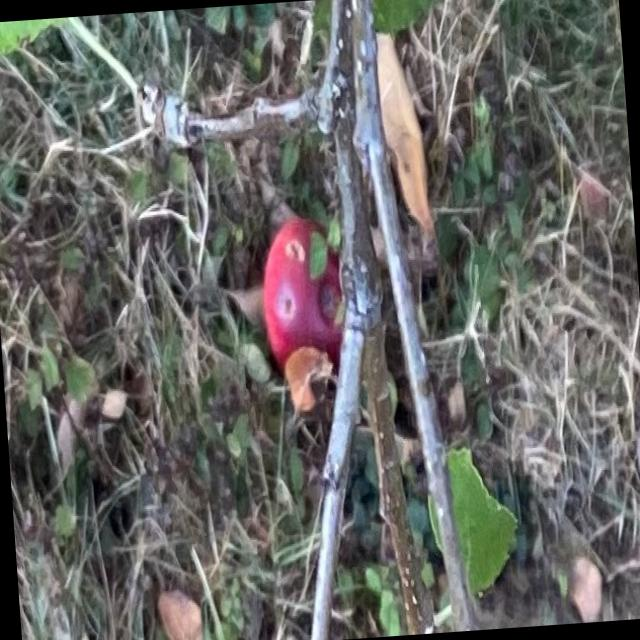Apples: (260, 223, 350, 370)
